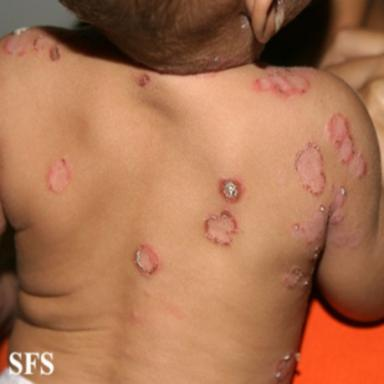Impetigo: (282, 179, 346, 299), (326, 113, 366, 178), (1, 28, 61, 62), (295, 143, 325, 195), (253, 70, 309, 97), (205, 210, 238, 245), (0, 272, 18, 329), (135, 244, 162, 277), (47, 158, 72, 193), (275, 352, 300, 383), (217, 177, 245, 203), (135, 73, 150, 87)
